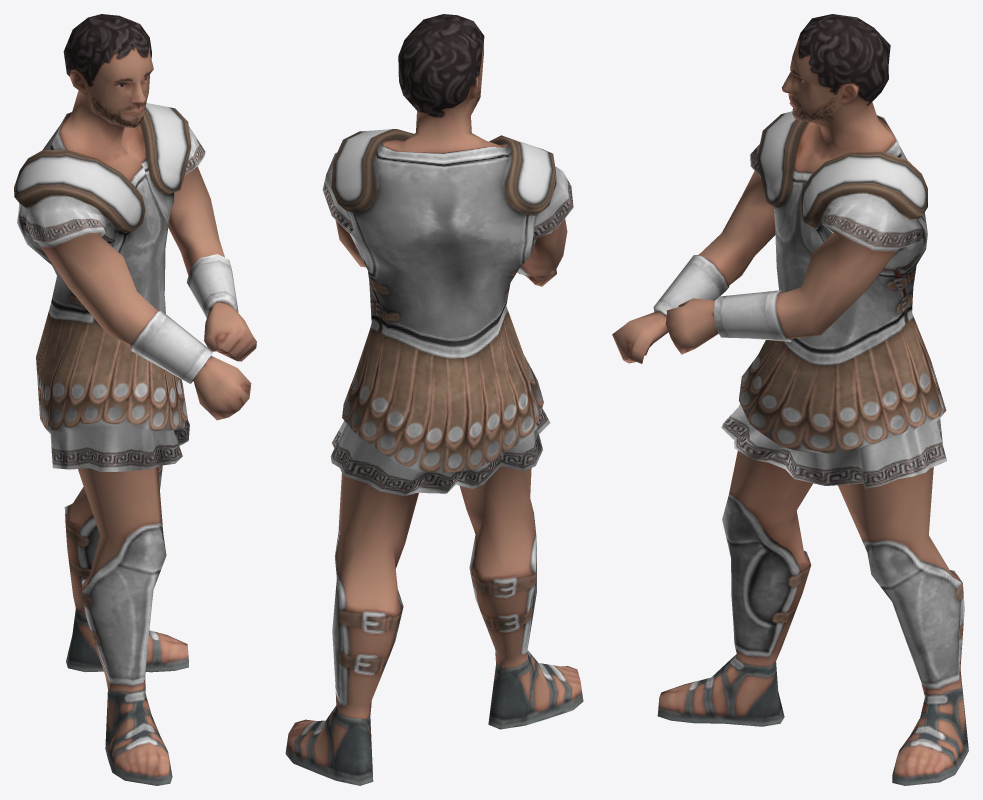
The model's file is body-heavyarchers.glb.
The picture shows the model from 3 angles, left to right: view 1: azimuth 30°, elevation 25°; view 2: azimuth 150°, elevation 25°; view 3: azimuth 270°, elevation 25°; orthographic projection. The views are drawn at different scales.
Bounding box in the file's own units: 0.6442 × 2.06 × 0.936.
1 material, 1 textured.
